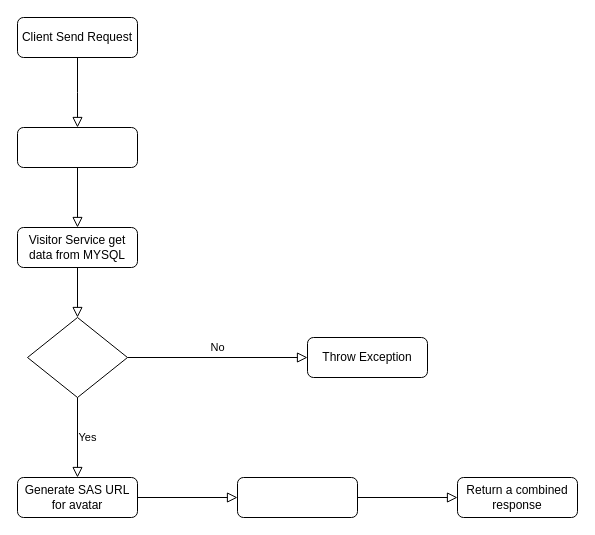
The diagram is 595 pixels wide and 535 high, and some of its shapes have lost their labels. The box of each missing label's shape, as (x1, y1, x2, y2) in pixels:
API Gateway navigate request: (16, 126, 138, 168)
Found data?: (26, 316, 128, 398)
Grant file's permission: (236, 476, 358, 518)
